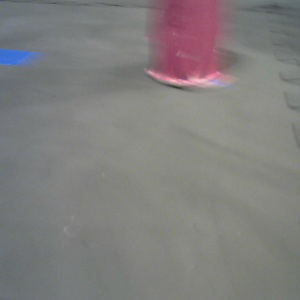Right: (145, 1, 225, 87)
